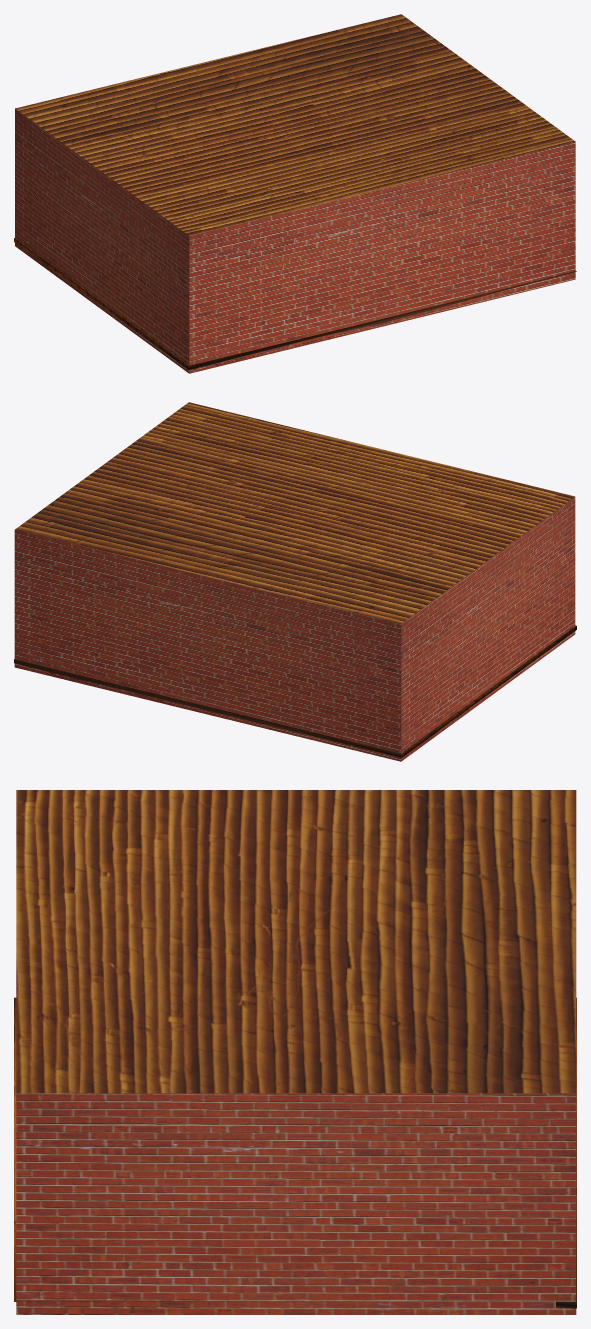
The model's file is boliche.fbx.
The picture shows the model from 3 angles, top to bottom: view 1: azimuth 30°, elevation 25°; view 2: azimuth 150°, elevation 25°; view 3: azimuth 270°, elevation 25°; orthographic projection. The views are drawn at different scales.
Parts seen in each view (by area): view 1: box.034; view 2: box.034; view 3: box.034.
Boxes of the visible parts, x1=… form: box.034: x1=14, y1=14, x2=576, y2=373; box.034: x1=14, y1=402, x2=576, y2=761; box.034: x1=14, y1=790, x2=576, y2=1314.
Bounding box in the file's own units: 1001 × 340 × 782.
21 materials, 21 textured.
